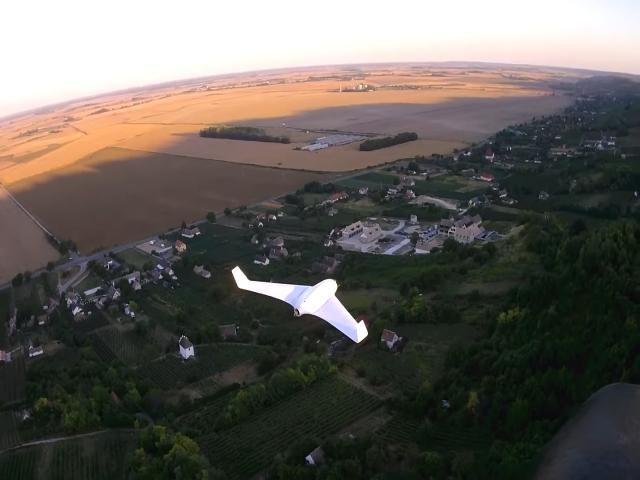plane: (233, 265, 368, 342)
